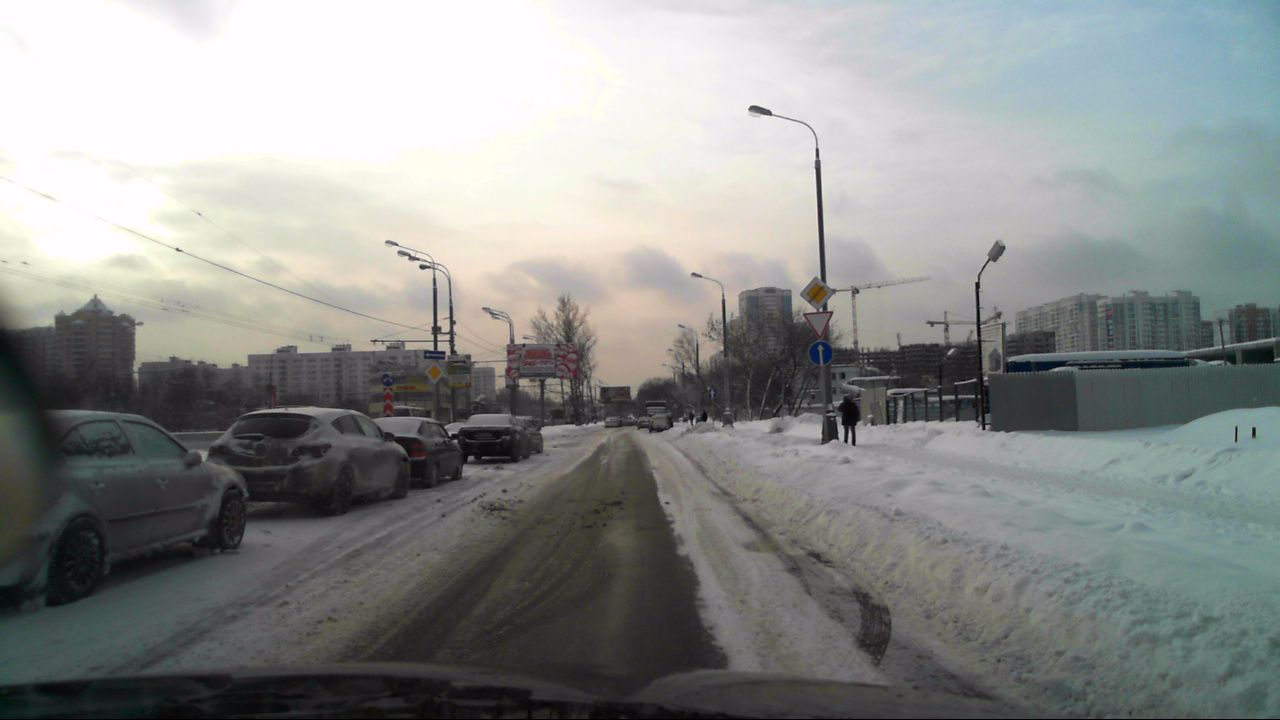main road: (799, 275, 834, 310)
